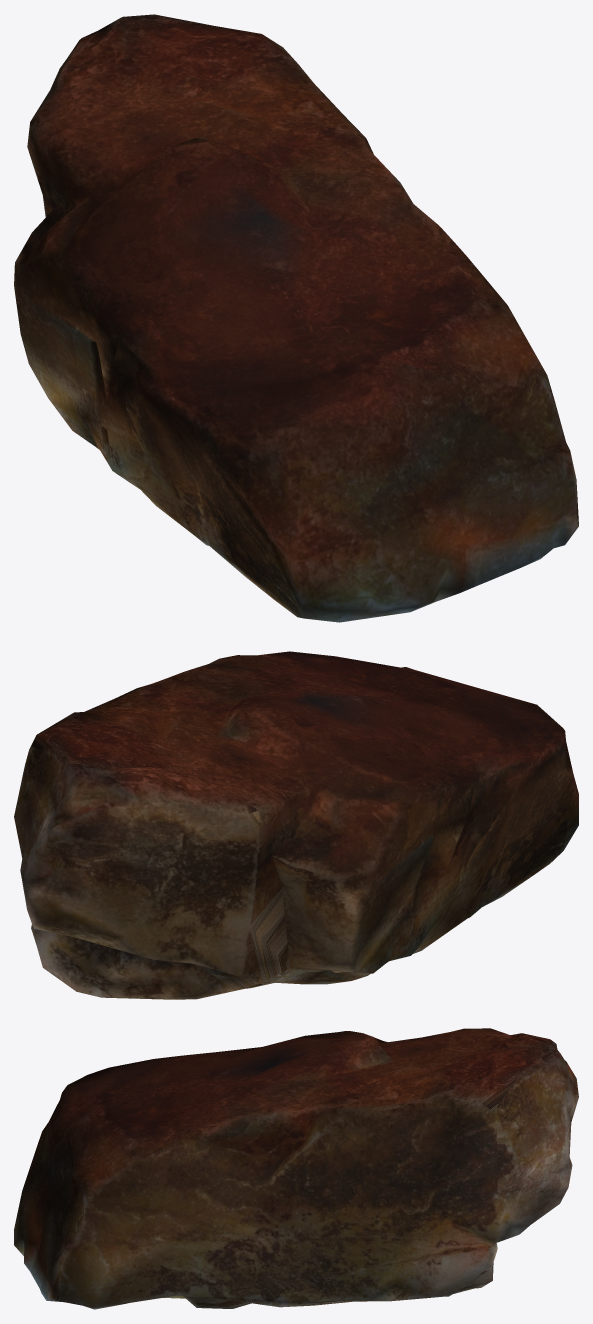
File: loose-rock-0-far.glb
3 views of the same model, one above another, from view 1: azimuth 30°, elevation 25°; view 2: azimuth 150°, elevation 25°; view 3: azimuth 270°, elevation 25° (orthographic). The views are drawn at different scales.
Visible parts, largest first — view 1: rock_07; view 2: rock_07; view 3: rock_07.
Part boxes in pixels (box(x1,y1,x2,y2)): rock_07: box(14, 14, 578, 622); rock_07: box(14, 651, 578, 999); rock_07: box(14, 1028, 578, 1309).
Bounding box in the file's own units: 0.5217 × 0.4478 × 0.9974.
1 material, 1 textured.
